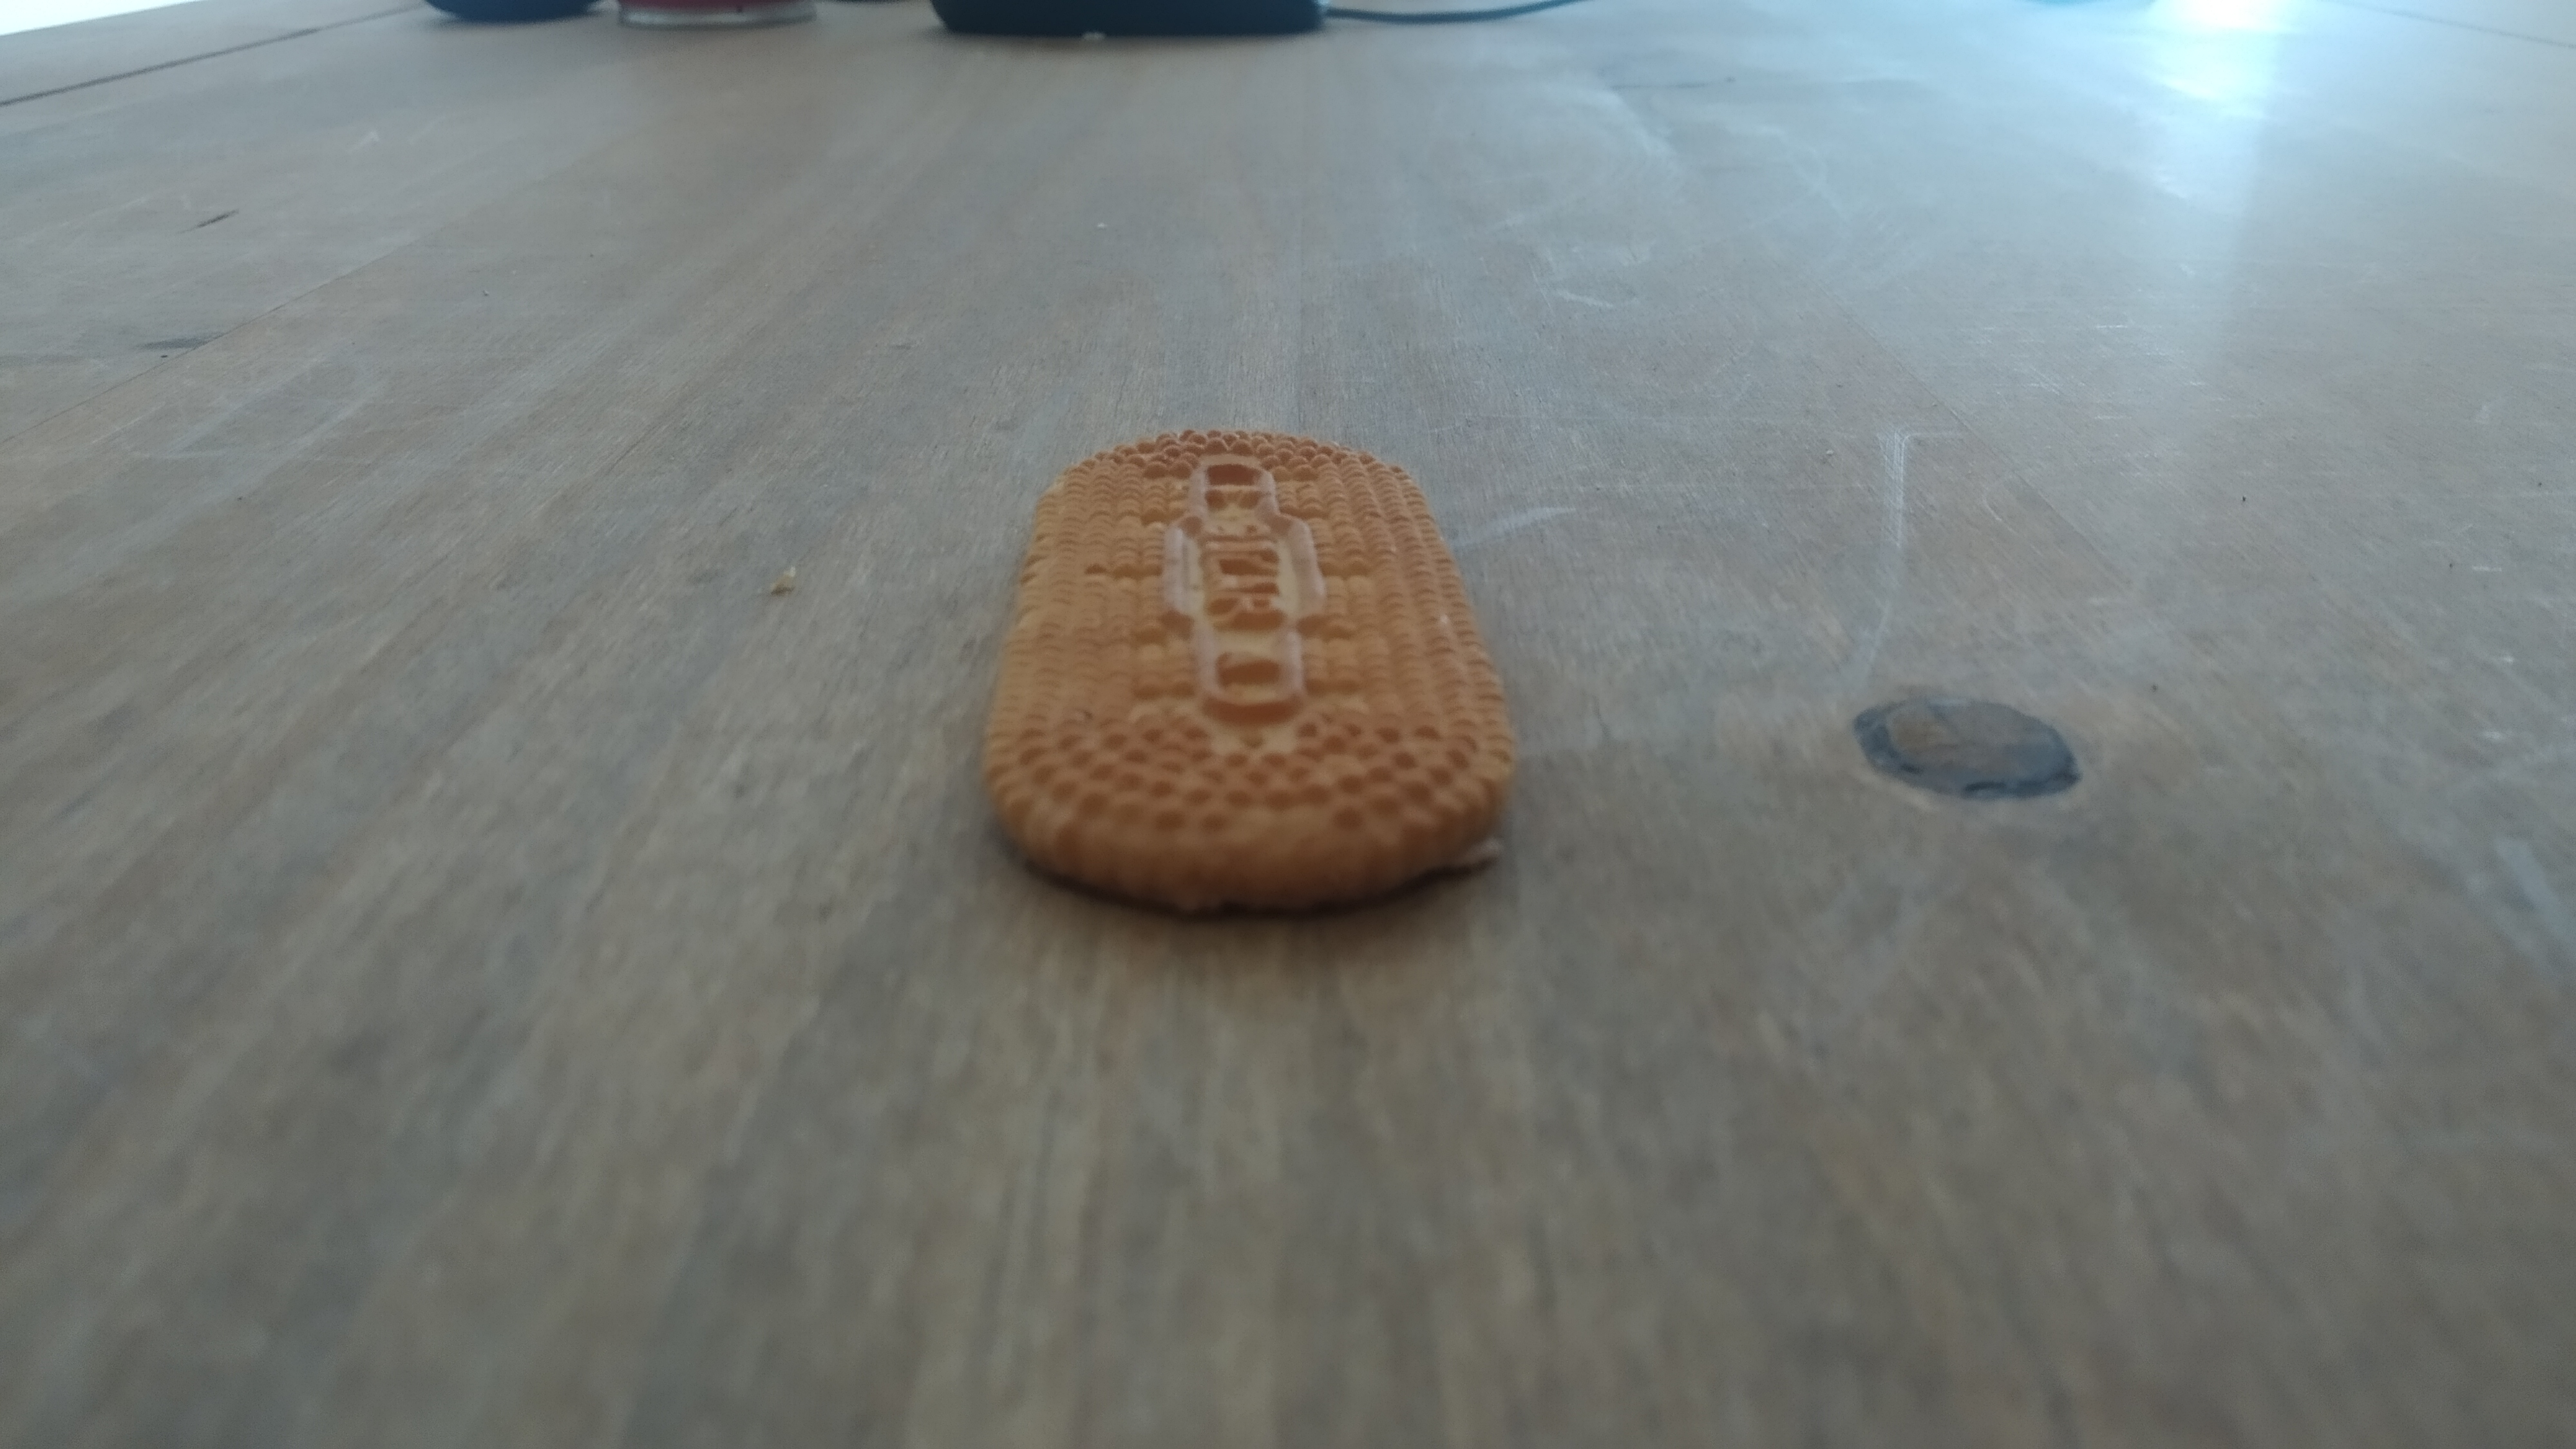solar: (982, 428, 1518, 913)
